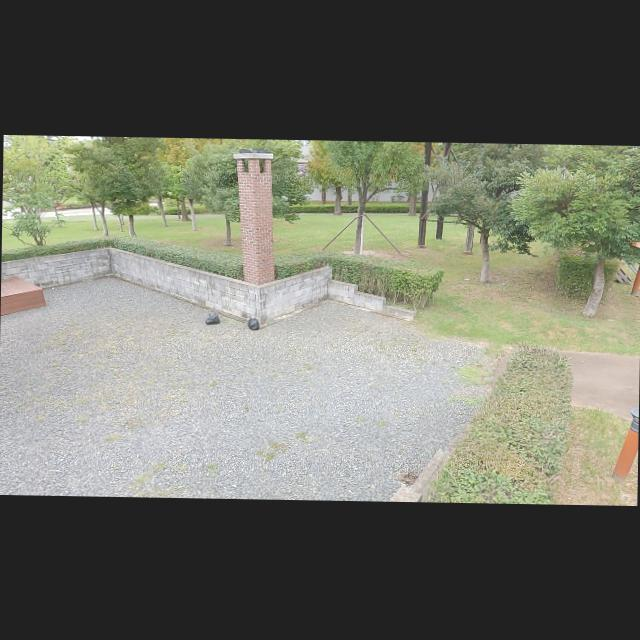trash: (204, 311, 220, 325), (247, 316, 260, 330)
